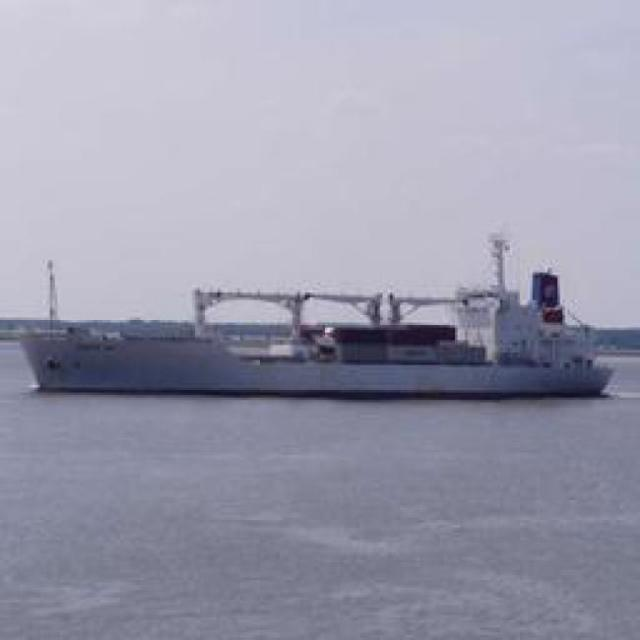boat: (4, 302, 616, 414)
